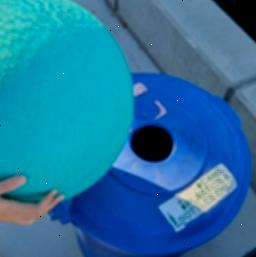algae: (0, 0, 130, 205)
